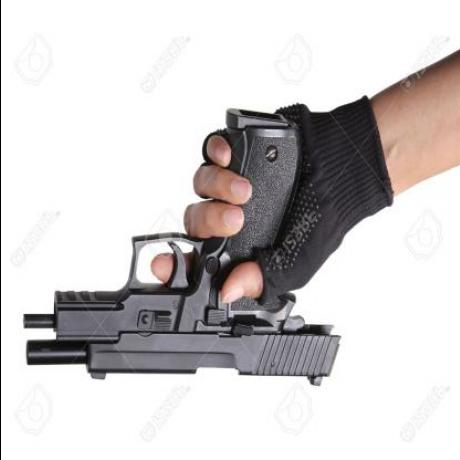1: (162, 44, 460, 312)
weapon: (11, 106, 345, 399)
